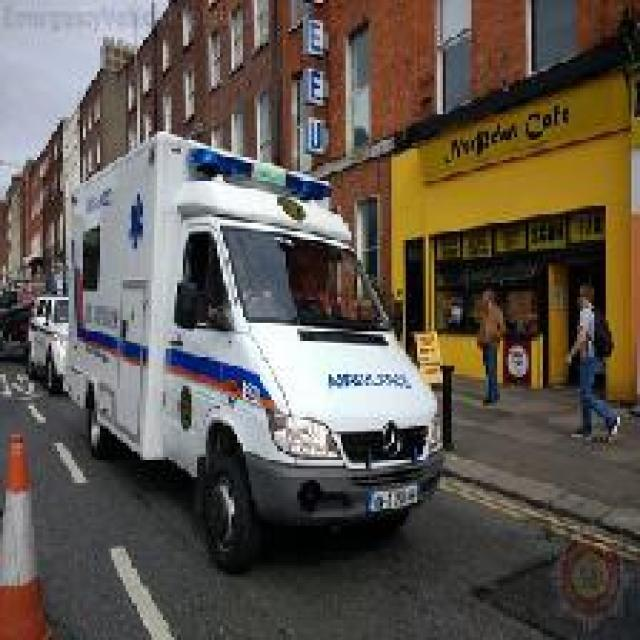fire_truck: (54, 138, 442, 578)
